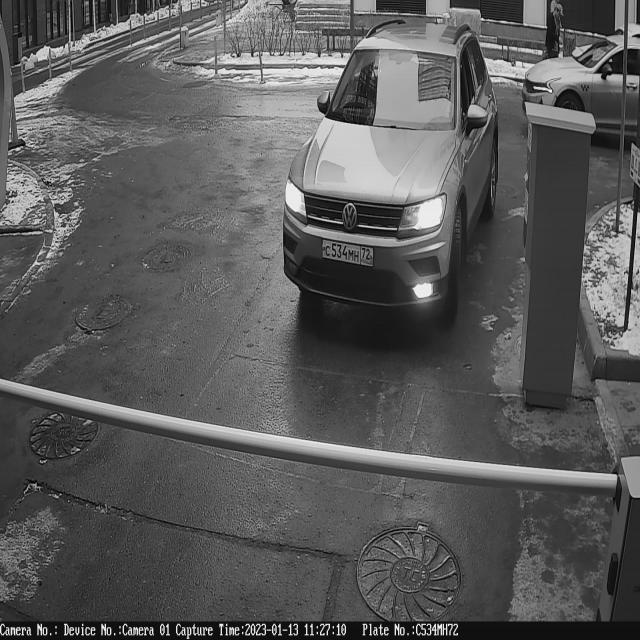car-plate-numbers: (319, 233, 378, 273)
